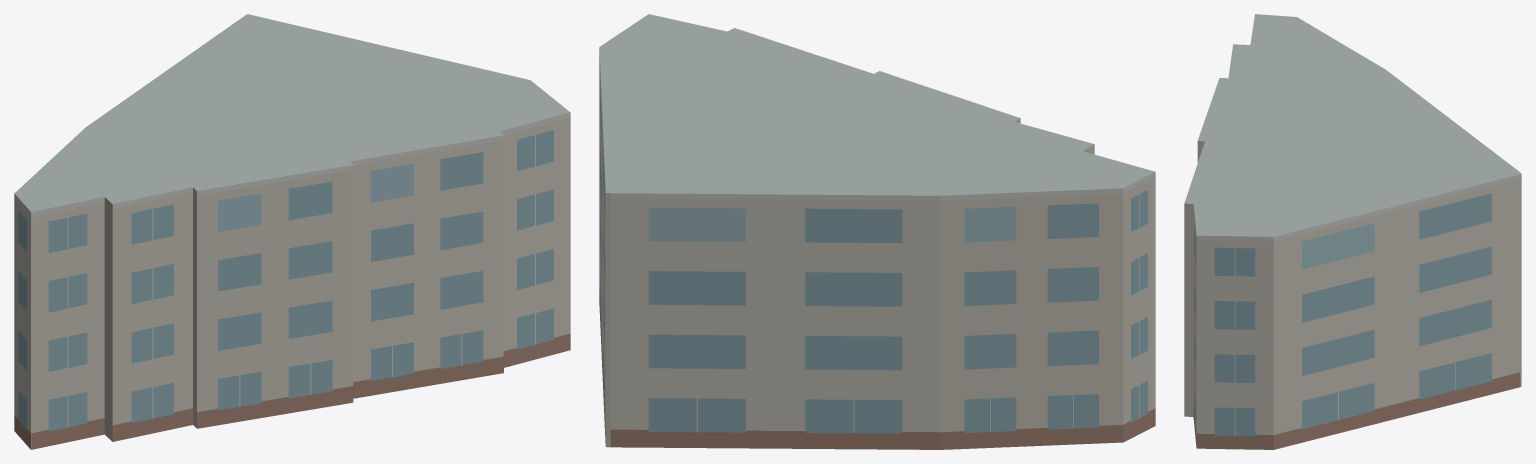
The model's file is survey-upis-32764373.glb.
3 renders of one model, left to right at view 1: azimuth 30°, elevation 25°; view 2: azimuth 150°, elevation 25°; view 3: azimuth 270°, elevation 25°, orthographic. The views are drawn at different scales.
Visible parts, largest first — view 1: survey-upis-32764373.tmp; view 2: survey-upis-32764373.tmp; view 3: survey-upis-32764373.tmp.
Part boxes in pixels (x1,y1,x2,y2): survey-upis-32764373.tmp: [14, 14, 570, 449]; survey-upis-32764373.tmp: [599, 14, 1155, 449]; survey-upis-32764373.tmp: [1184, 14, 1521, 449].
Bounding box in the file's own units: 26.11 × 11.63 × 16.7.
